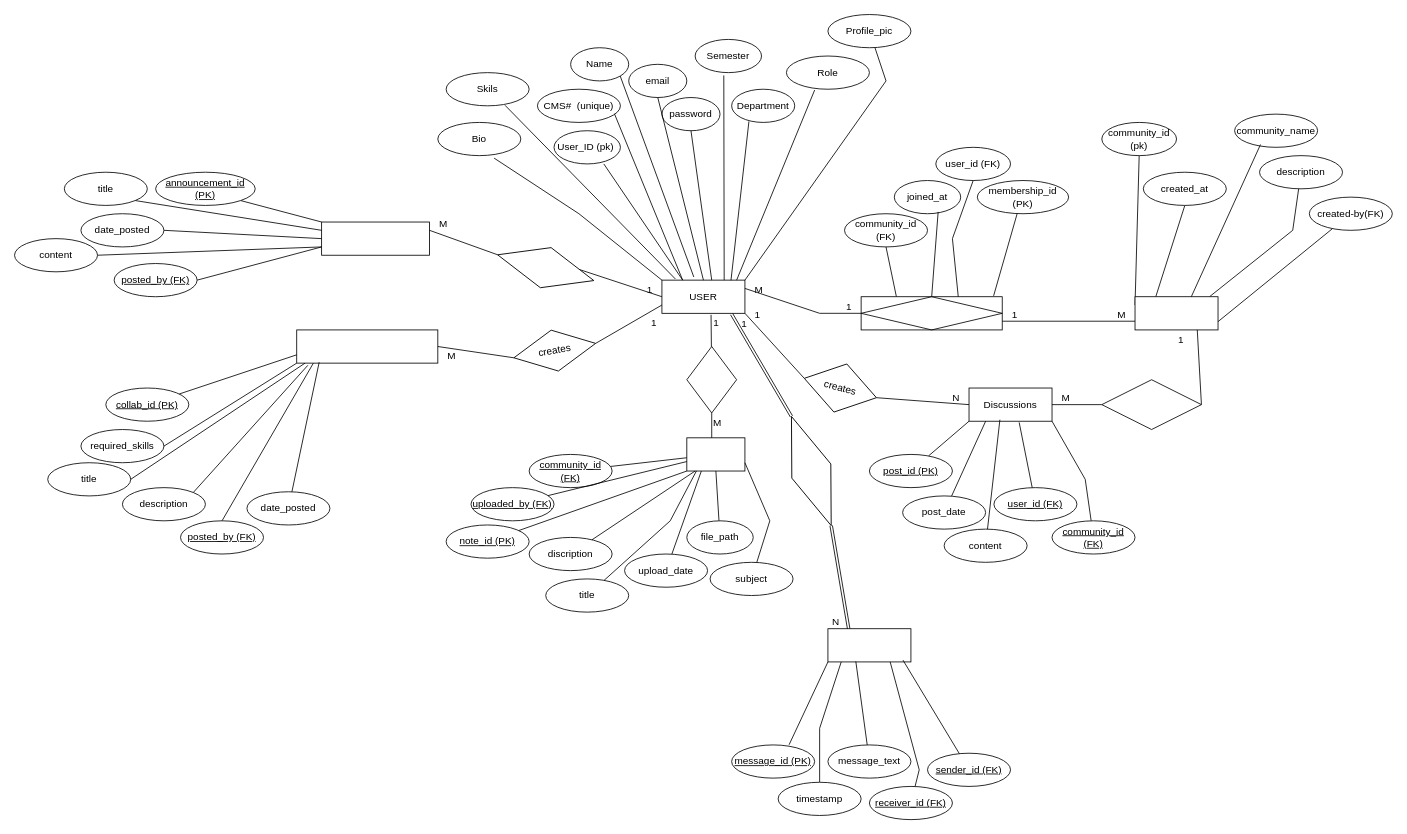
Some shapes in this 1407 by 834 pixel diagram are drawn without their labels. The box of each missing label's shape, as (x1, y1, x2, y2) in pixels:
ANNOUNCEMENTS: (321, 221, 430, 255)
COLLABORATION_POSTS: (296, 329, 438, 363)
COMMUNITY_MEMBERS: (860, 296, 1002, 330)
Comunity: (1134, 296, 1218, 330)
Contains: (1101, 379, 1201, 430)
MESSAGES: (827, 628, 911, 662)
NOTES: (686, 437, 745, 471)
Posts: (491, 234, 599, 301)
Sends and Recive: (771, 408, 851, 533)
uplodes: (686, 346, 737, 413)
